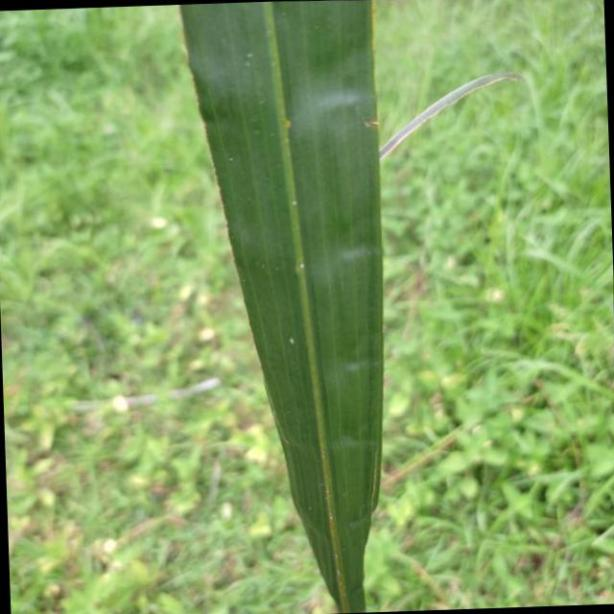Boron: (174, 0, 387, 614)
